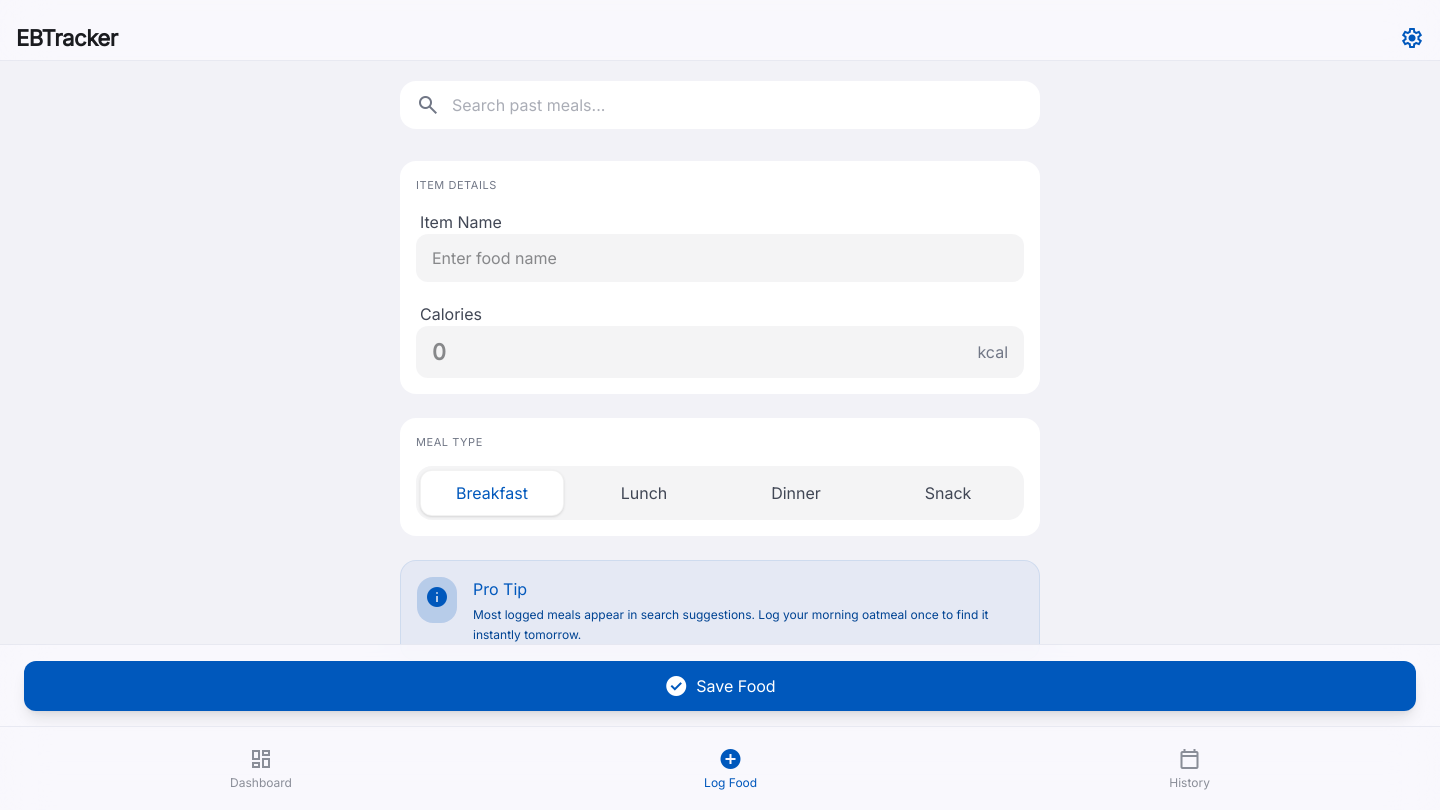
it: LogMeal Component › clears search when cancel/clear button is clicked
Type "Toast" into the field with placeholder "Search past meals..." at [738, 105], box x1=452 y1=93 x2=1024 y2=117
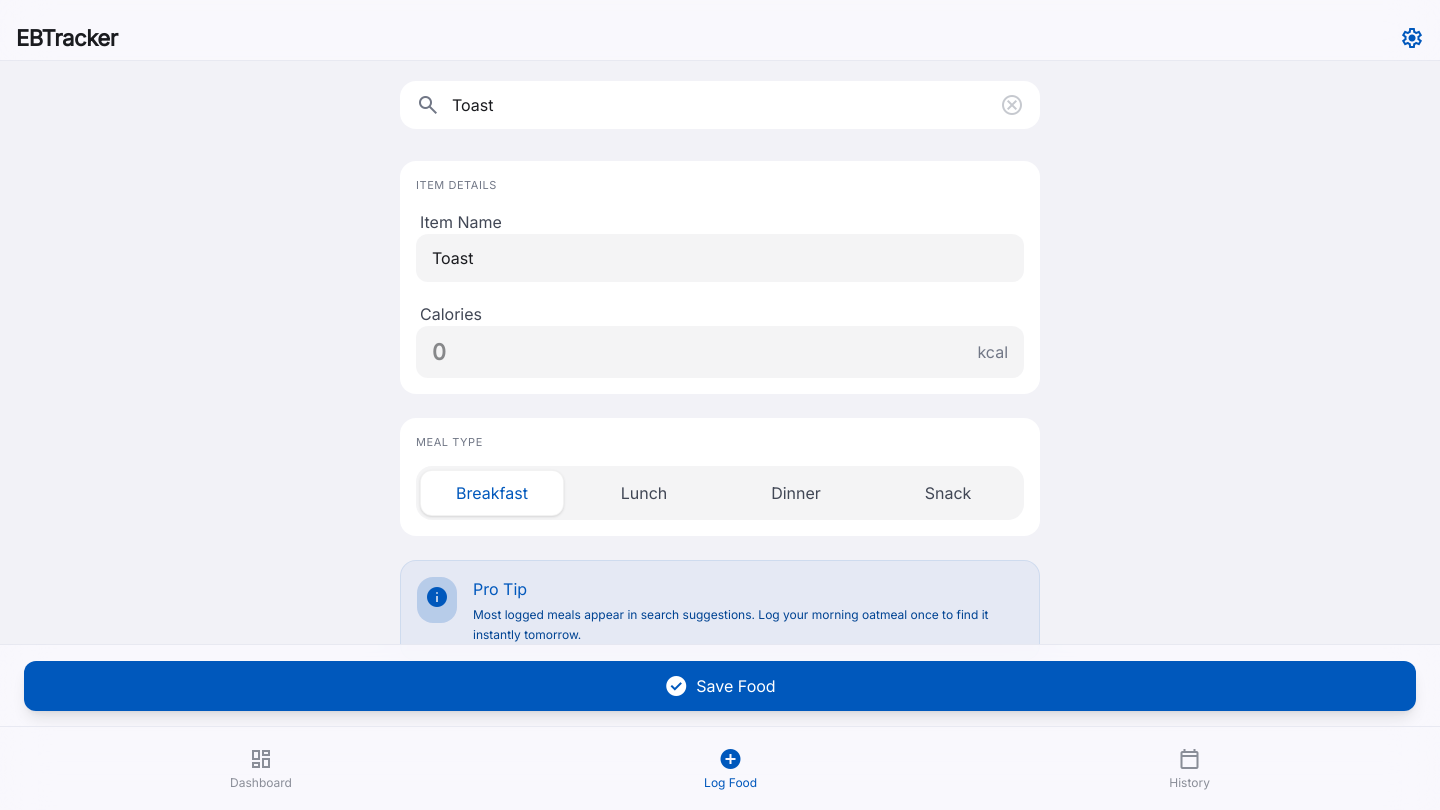
Click the 2nd button "cancel" at [1012, 105], box x1=1000 y1=93 x2=1024 y2=117
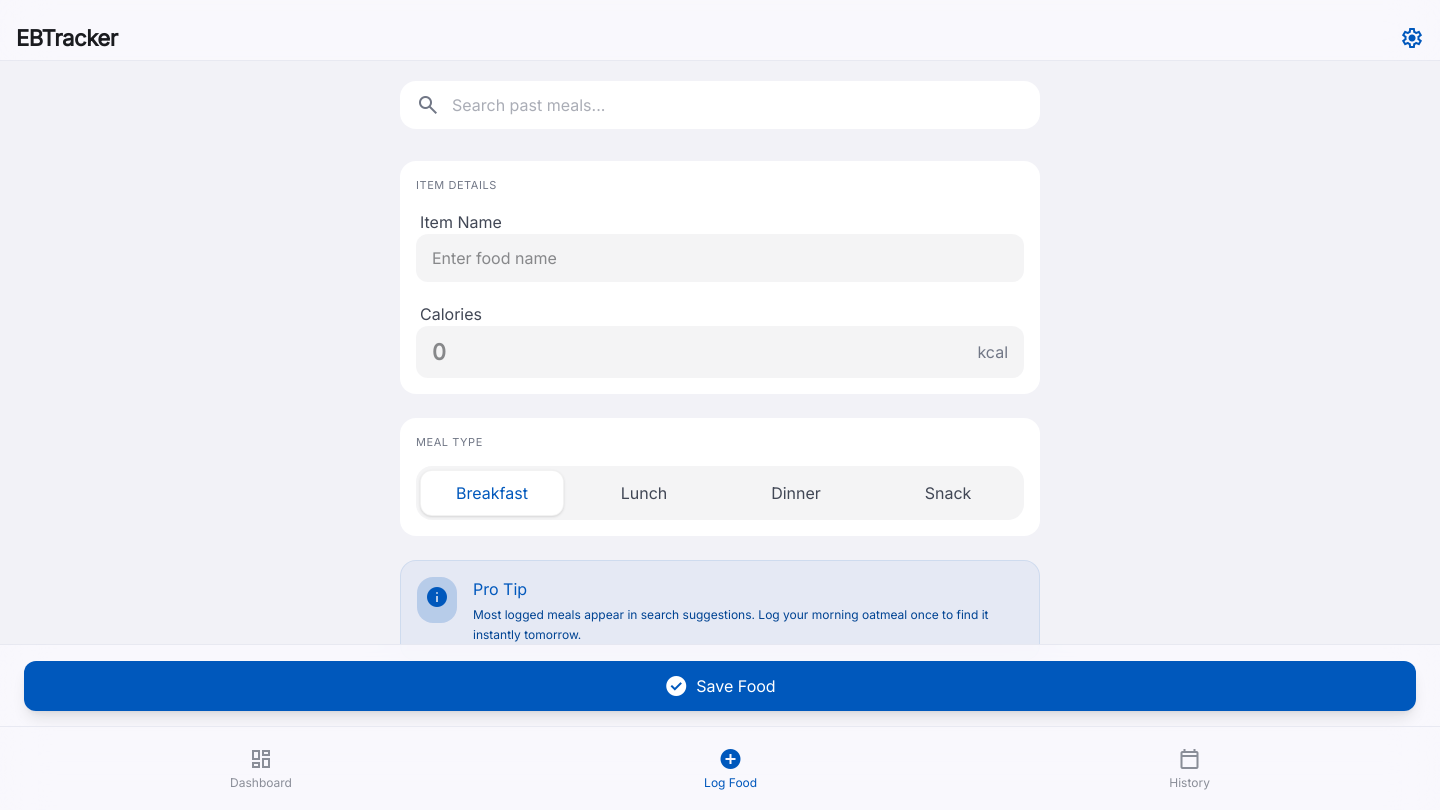
Expected: the field with placeholder "Search past meals..." is empty, x1=452 y1=93 x2=1024 y2=117
